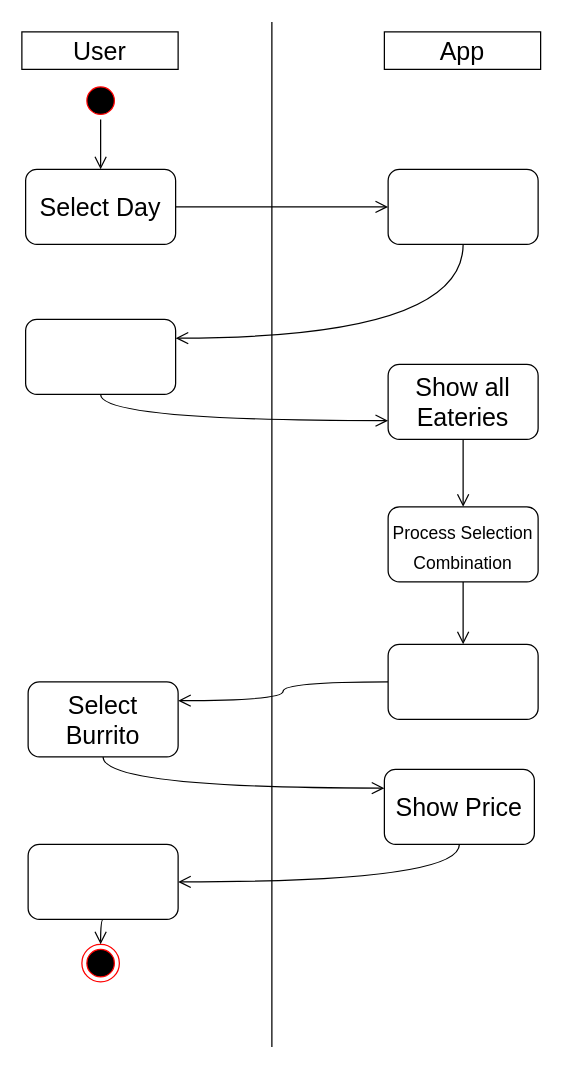
The diagram is 563 pixels wide and 1070 high, and some of its shapes have lost their labels. Here are the shapes that lost their labels. From the top down, the box of each, then its label:
(387, 168, 538, 244): Show all Days in system
(24, 318, 176, 394): Select Eatery
(387, 643, 538, 719): Show available Deals
(27, 843, 178, 919): Close App
